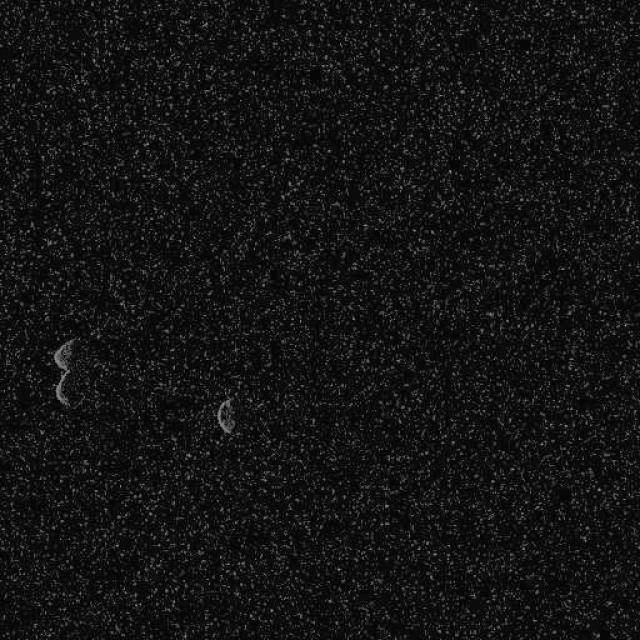D2: (51, 334, 105, 408), (215, 396, 236, 434)
